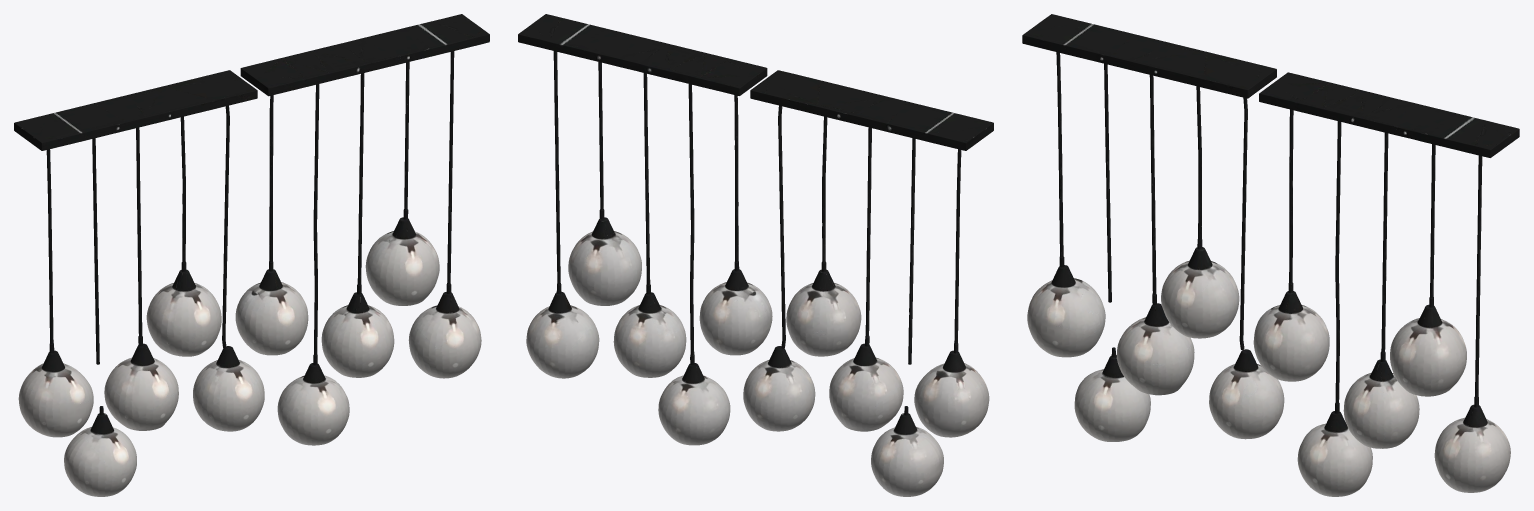
File: Meshy_AI_Modern_Glass_Globe_Pe_0926082004_texture.glb
3 views of the same model, side by side, from view 1: azimuth 30°, elevation 25°; view 2: azimuth 150°, elevation 25°; view 3: azimuth 330°, elevation 25° (orthographic). The views are drawn at different scales.
Size of the model in its own units: 1.9 by 1.51 by 0.2672.
Materials: 1 (1 with a texture image).
